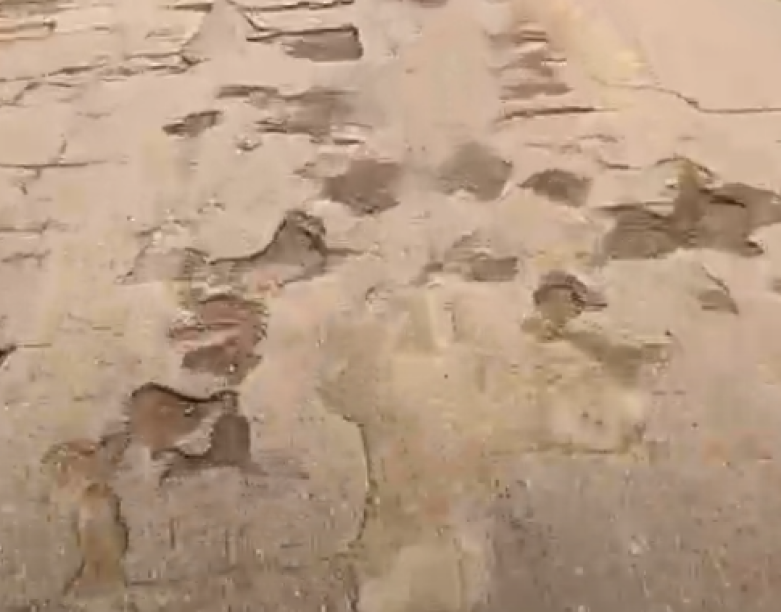Retak Buaya: (57, 240, 352, 612), (564, 180, 773, 267), (164, 1, 376, 69), (153, 89, 379, 152), (311, 167, 527, 212), (469, 427, 662, 471), (635, 80, 781, 132), (335, 397, 383, 553), (515, 276, 607, 336), (482, 87, 622, 120), (251, 200, 331, 254), (1, 1, 99, 44), (489, 28, 559, 85), (521, 151, 589, 209), (420, 248, 526, 285), (1, 65, 138, 91), (430, 150, 516, 185), (1, 150, 111, 167), (1, 336, 22, 371)
